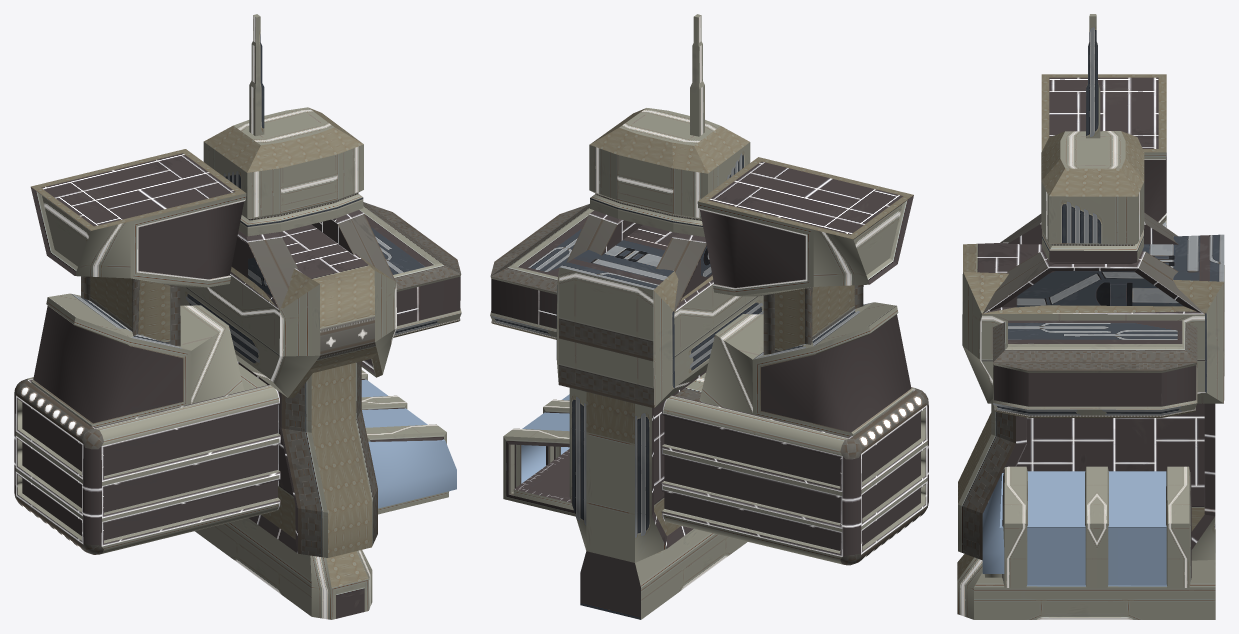
The model's file is KF_SM_PreBuild1.fbx.
3 renders of one model, left to right at view 1: azimuth 30°, elevation 25°; view 2: azimuth 150°, elevation 25°; view 3: azimuth 270°, elevation 25°, orthographic. The views are drawn at different scales.
Visible parts, largest first — view 1: KF_SM_DoubleB, KF_SM_WindowB, KF_SM_TallB, KF_SM_AnthenaB, KF_SM_CapB, KF_SM_RoomB, KF_SM_SmallB; view 2: KF_SM_DoubleB, KF_SM_WindowB, KF_SM_TallB, KF_SM_CapB, KF_SM_AnthenaB, KF_SM_SmallB, KF_SM_RoomB; view 3: KF_SM_TallB, KF_SM_AnthenaB, KF_SM_RoomB, KF_SM_SmallB, KF_SM_CapB, KF_SM_DoubleB.
Part boxes in pixels (x1,y1,x2,y2): KF_SM_DoubleB: [30, 149, 246, 427]; KF_SM_WindowB: [14, 364, 280, 554]; KF_SM_TallB: [195, 361, 377, 619]; KF_SM_AnthenaB: [203, 14, 395, 310]; KF_SM_CapB: [180, 224, 396, 397]; KF_SM_RoomB: [361, 370, 456, 514]; KF_SM_SmallB: [359, 202, 461, 337]; KF_SM_DoubleB: [697, 157, 913, 437]; KF_SM_WindowB: [661, 372, 928, 565]; KF_SM_TallB: [569, 370, 747, 619]; KF_SM_CapB: [556, 225, 763, 408]; KF_SM_AnthenaB: [557, 14, 750, 311]; KF_SM_SmallB: [490, 204, 593, 339]; KF_SM_RoomB: [503, 394, 575, 516]; KF_SM_TallB: [957, 403, 1215, 619]; KF_SM_AnthenaB: [982, 14, 1204, 314]; KF_SM_RoomB: [982, 466, 1191, 587]; KF_SM_SmallB: [993, 320, 1197, 417]; KF_SM_CapB: [962, 234, 1224, 403]; KF_SM_DoubleB: [1041, 74, 1166, 227].
Bounding box in the file's own units: 11883 × 17044 × 7180.
